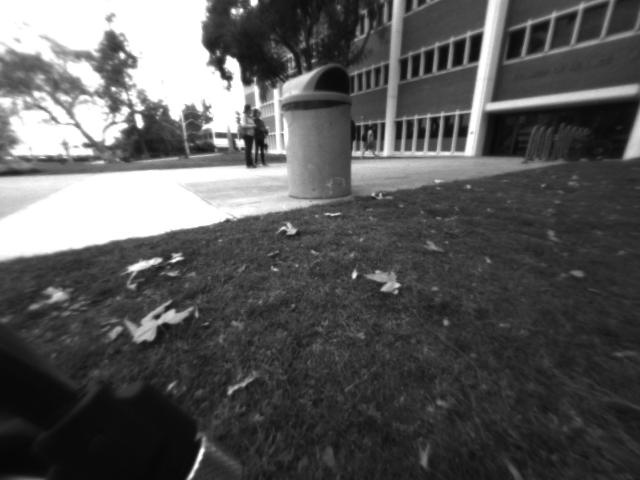trashcan: (279, 64, 356, 201)
